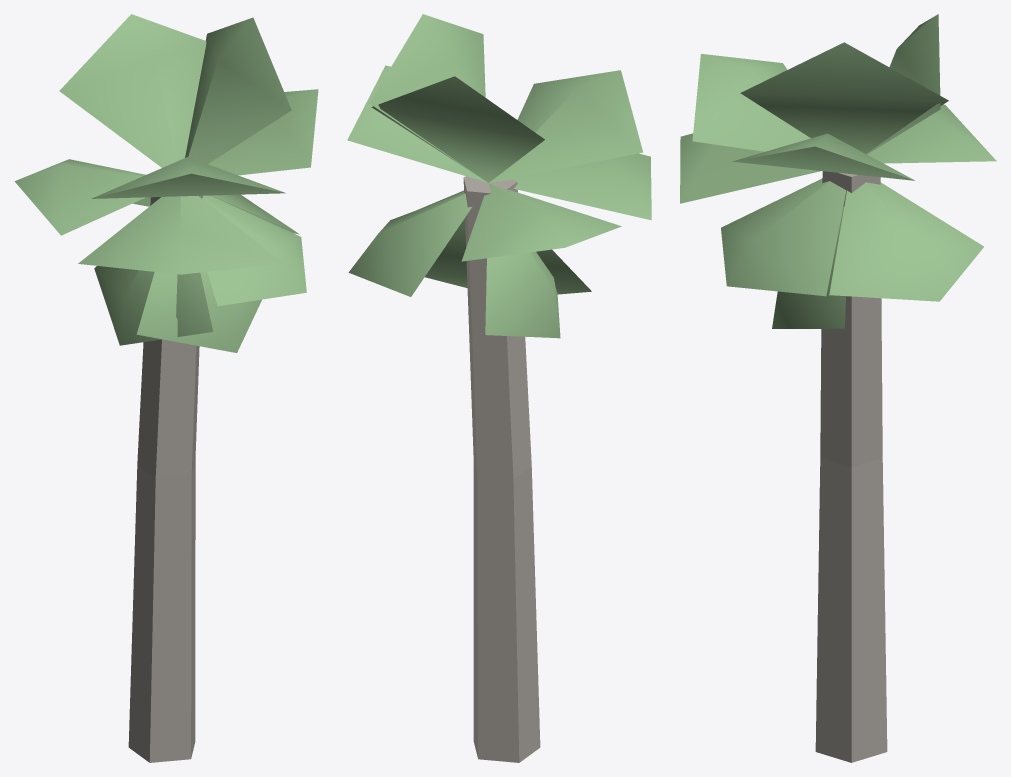
Rendered from tree-palm-fan-b-far.glb.
3 renders of one model, left to right at view 1: azimuth 30°, elevation 25°; view 2: azimuth 150°, elevation 25°; view 3: azimuth 270°, elevation 25°, orthographic. The views are drawn at different scales.
Visible parts, largest first — view 1: tree-palm-fan-b-far; view 2: tree-palm-fan-b-far; view 3: tree-palm-fan-b-far.
Boxes of the visible parts, x1,y1,x2,y2 form: tree-palm-fan-b-far: (14,14,318,762); tree-palm-fan-b-far: (347,14,651,762); tree-palm-fan-b-far: (680,14,996,762).
Bounding box in the file's own units: 0.3723 × 1 × 0.3837.
